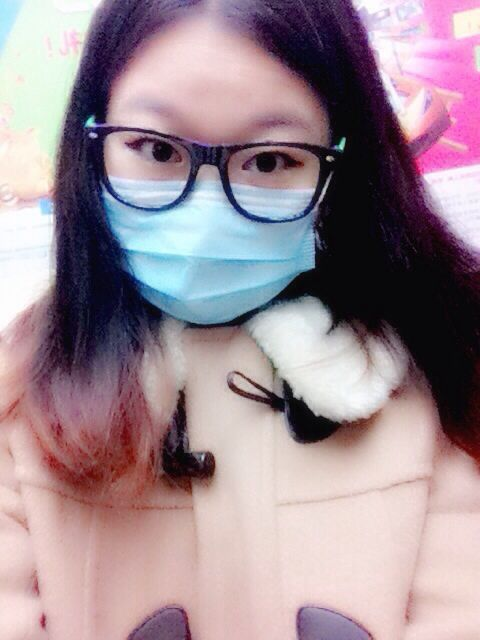face_mask: (103, 51, 314, 324)
